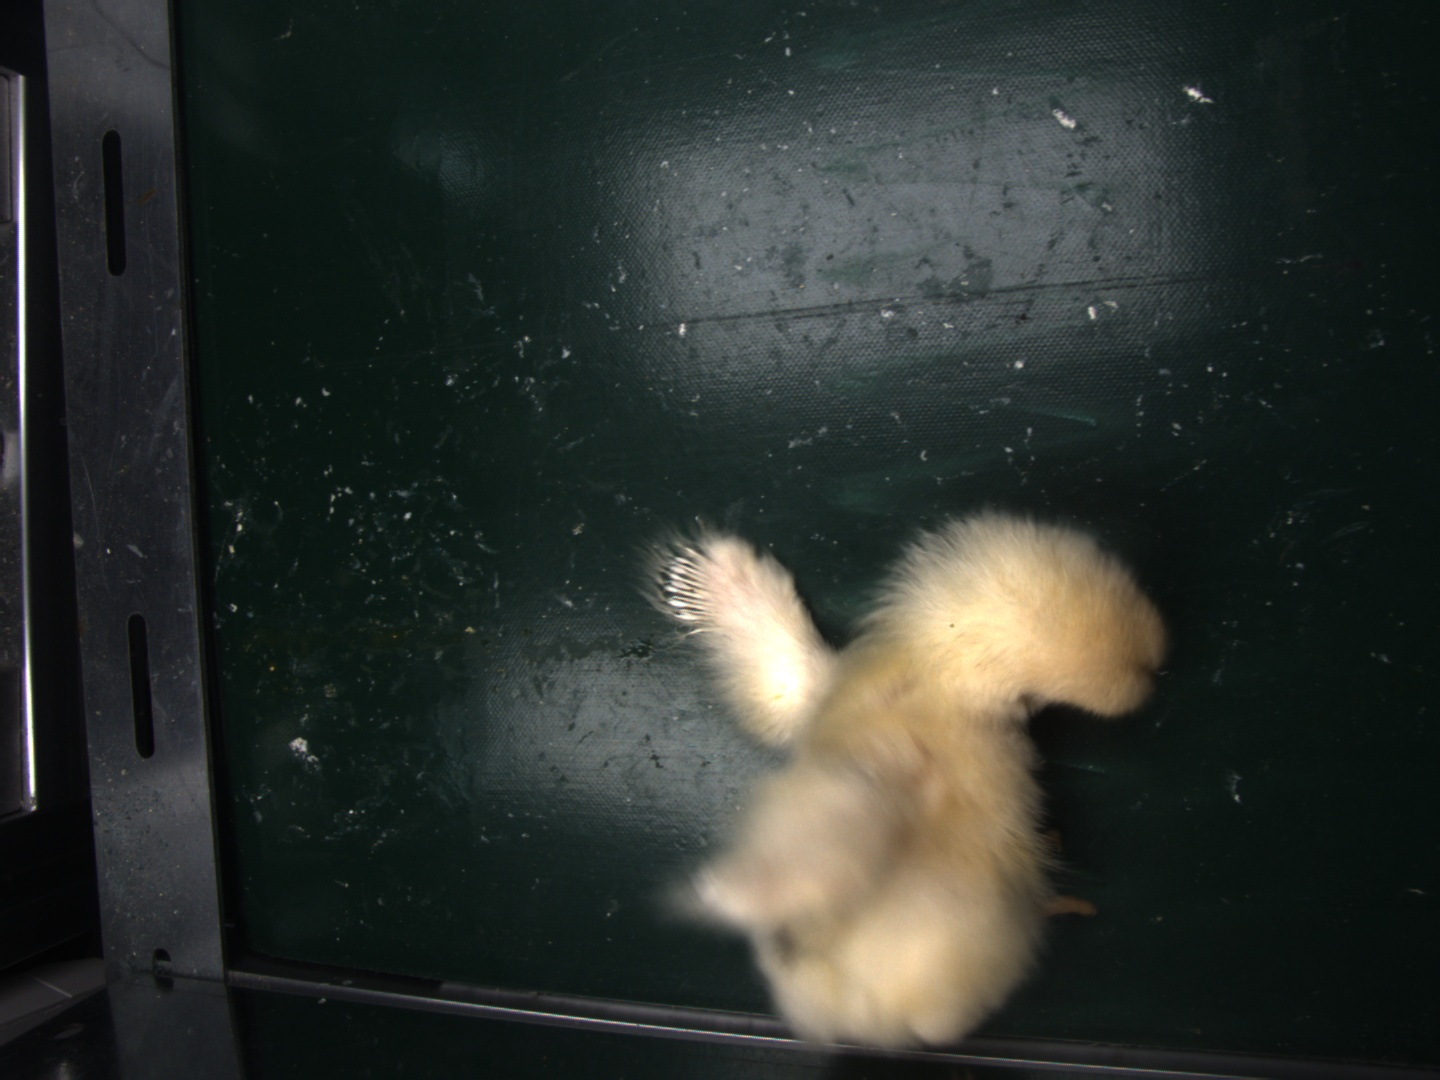male: (663, 537, 725, 624)
